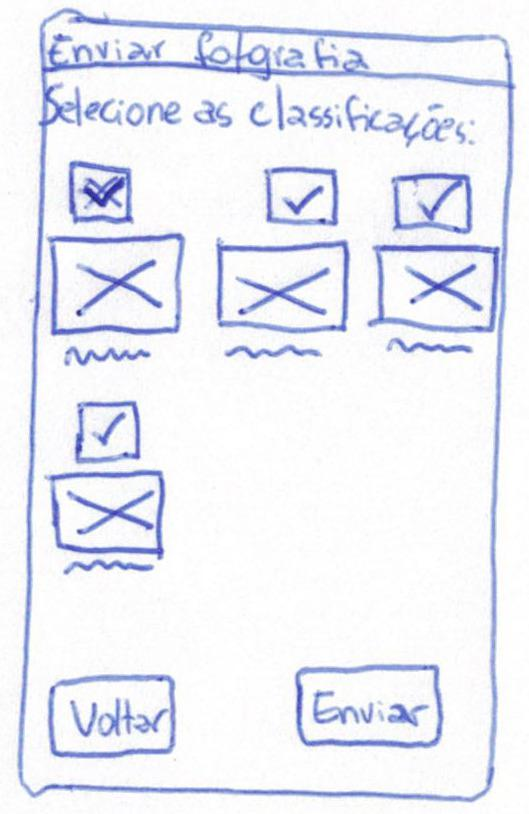Button: (295, 664, 444, 747), (46, 673, 178, 758)
CheckBox: (392, 174, 473, 232), (73, 399, 143, 464), (264, 168, 339, 225), (68, 165, 132, 222)
Image: (47, 235, 187, 335), (215, 239, 350, 330), (376, 244, 498, 330), (50, 470, 165, 554)
Label: (46, 84, 476, 149), (47, 33, 371, 73), (63, 344, 150, 366), (386, 338, 473, 356), (63, 560, 156, 576), (225, 345, 323, 360)
Screen: (17, 12, 516, 798)
